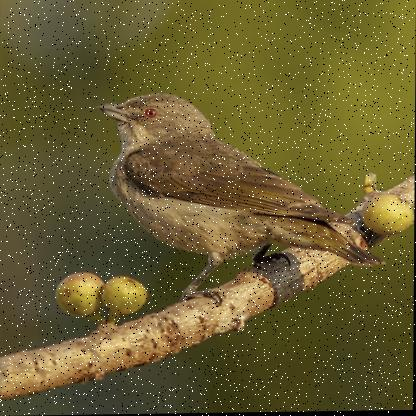Burung: (97, 92, 390, 292)
